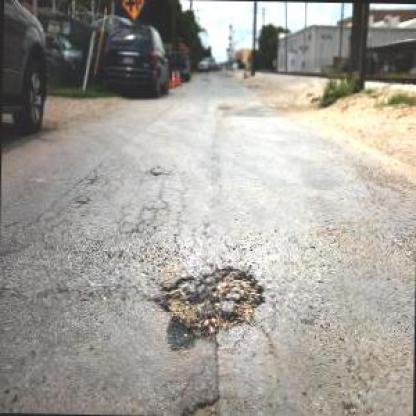pothole: (157, 265, 266, 338), (182, 391, 222, 416)
